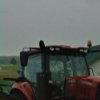Tractor: (10, 35, 100, 100)
